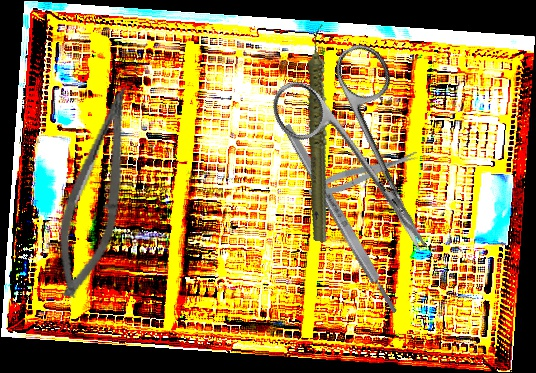Handpiece: (266, 22, 376, 244)
Iris Scissors: (262, 36, 474, 282)
Micro Scissor: (46, 80, 142, 303), (305, 147, 422, 202)
Scalpel Handle: (280, 122, 401, 316)
